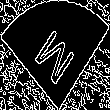M_SW: (30, 20, 80, 90)
